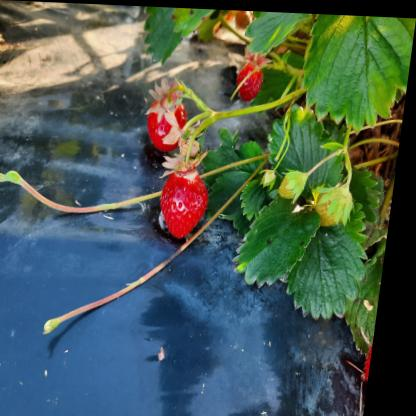ripe: (165, 167, 217, 240), (143, 96, 189, 156), (233, 57, 266, 100)
unripe: (280, 166, 314, 200), (323, 187, 352, 223)
